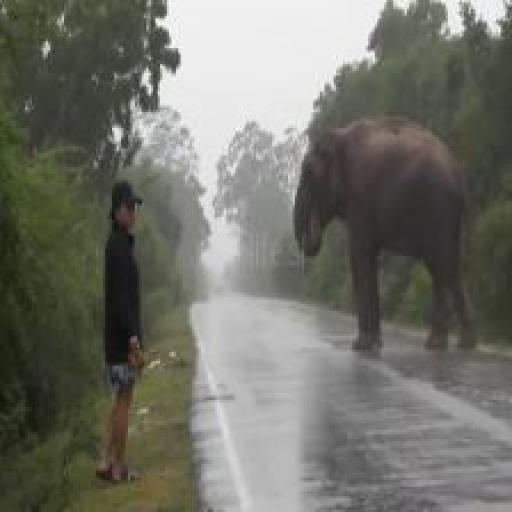Elephant: (283, 71, 487, 398)
